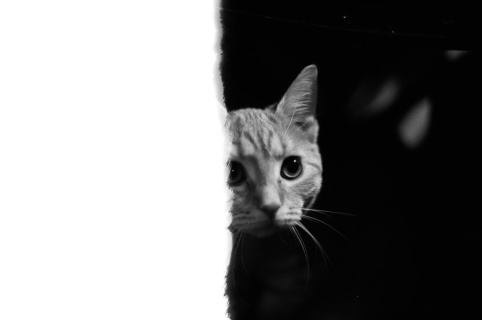Cat: (227, 64, 349, 277)
